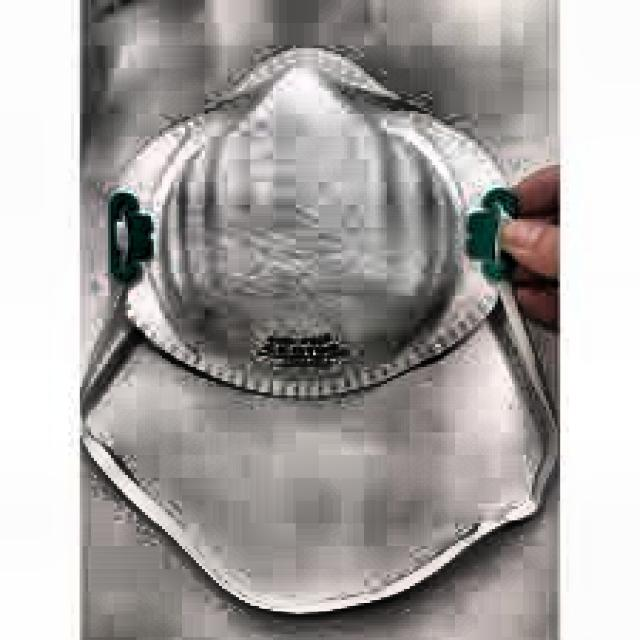trash: (104, 45, 519, 389)
